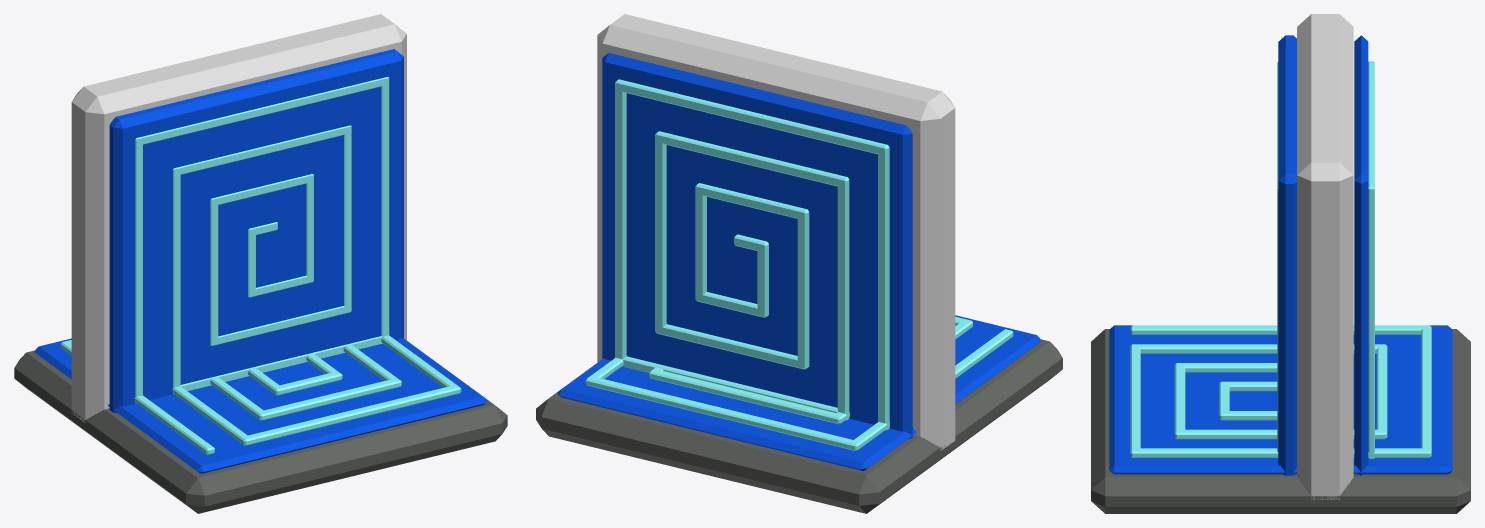
Rendered from terrain-exit.glb.
The picture shows the model from 3 angles, left to right: view 1: azimuth 30°, elevation 25°; view 2: azimuth 150°, elevation 25°; view 3: azimuth 270°, elevation 25°; orthographic projection. The views are drawn at different scales.
Visible parts, largest first — view 1: terrain-exit; view 2: terrain-exit; view 3: terrain-exit.
Part boxes in pixels (<box>): terrain-exit: <box>14,14,507,513</box>; terrain-exit: <box>536,14,1062,513</box>; terrain-exit: <box>1091,14,1470,513</box>.
Size of the model in its own units: 0.94 by 0.96 by 0.94.
